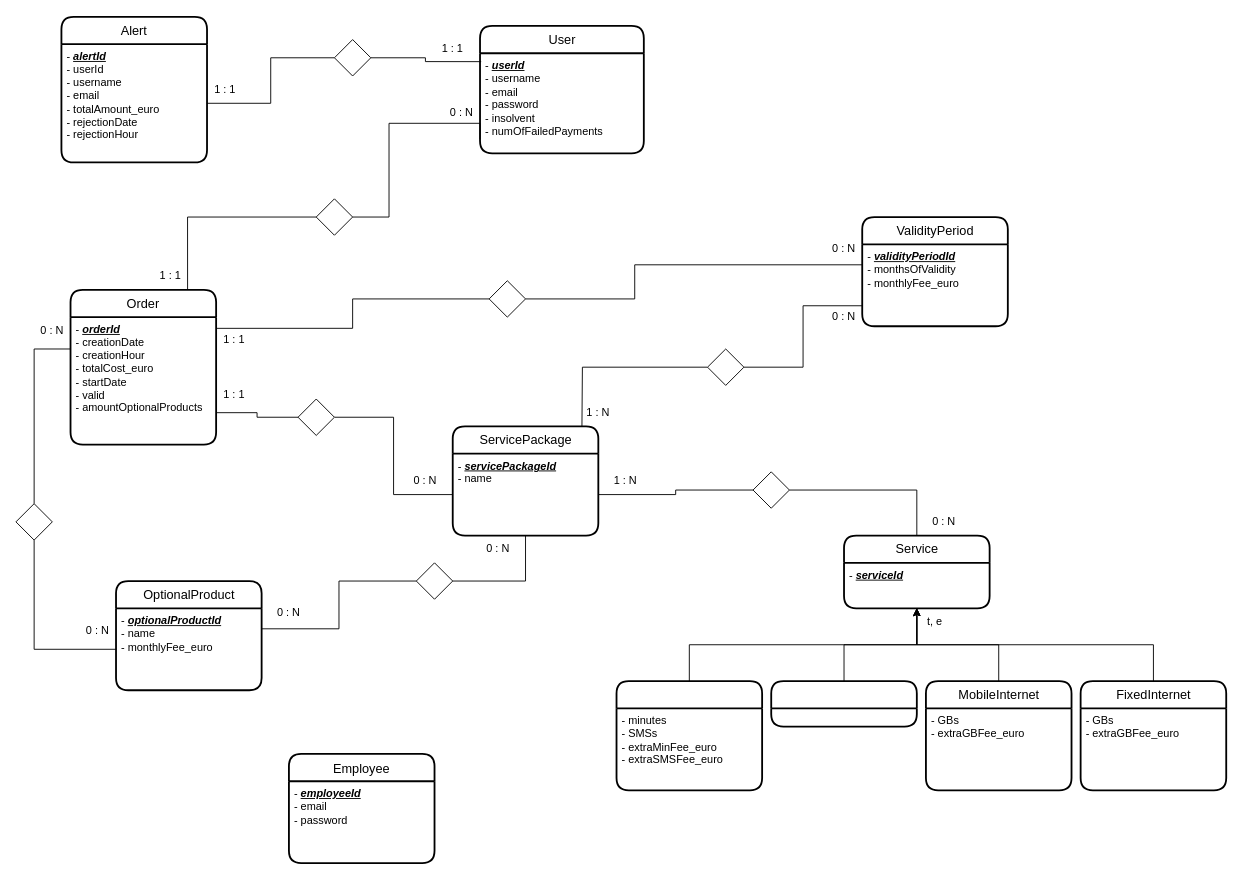
Image size: 1243x879. Some labels were removed from this diagram. The shapes that lost their labels are listed below. From the top down, each one's box as (x1, y1, x2, y2) in pixels, then its label:
(770, 680, 917, 727): FixedPhone
(615, 680, 763, 791): MobilePhone
